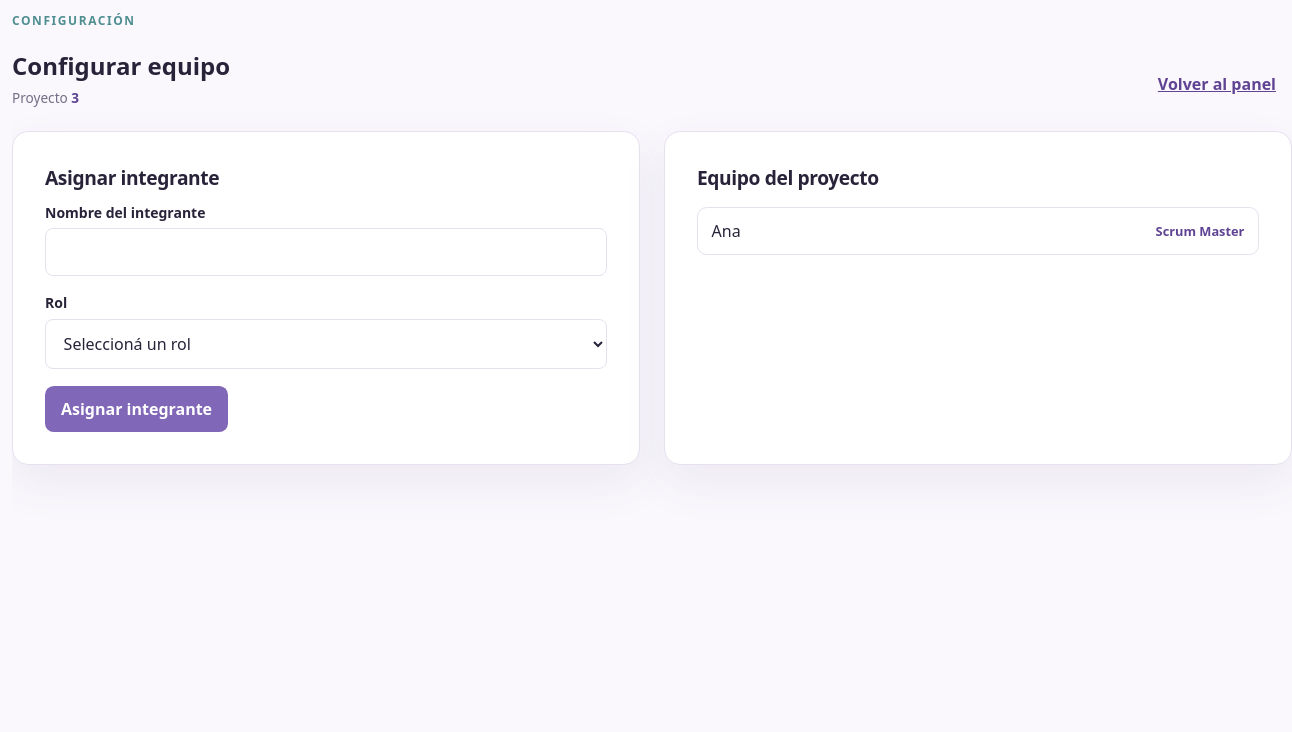
it: pantalla de configuración del equipo › valida nombre y rol antes de asignar
Check: the text "Ana" is shown, box [712,220,741,242]
What coordinates should you click on to do the following:
click the button "Asignar integrante"
I would click on:
 (136, 410)
Its box is [45,386,228,432].
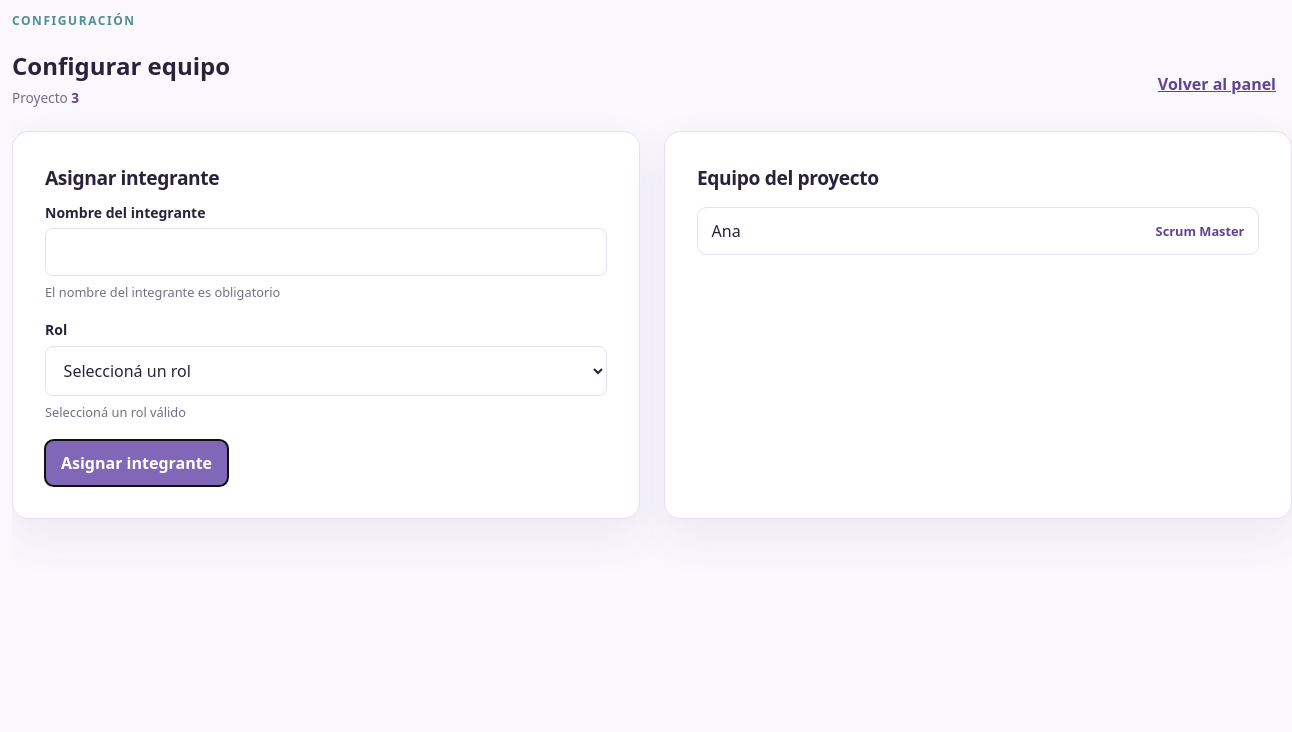
Check: the text "El nombre del integrante es obligatorio" is shown, box [45,283,280,301]
Check: the text "Seleccioná un rol válido" is shown, box [45,403,186,421]
